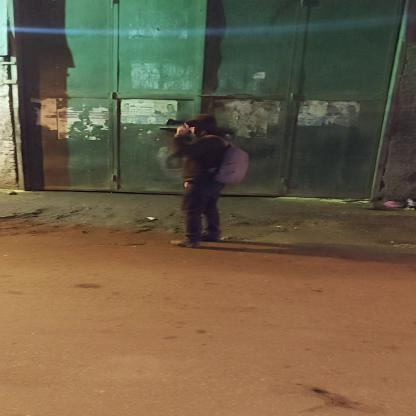long weapon: (142, 112, 246, 140)
